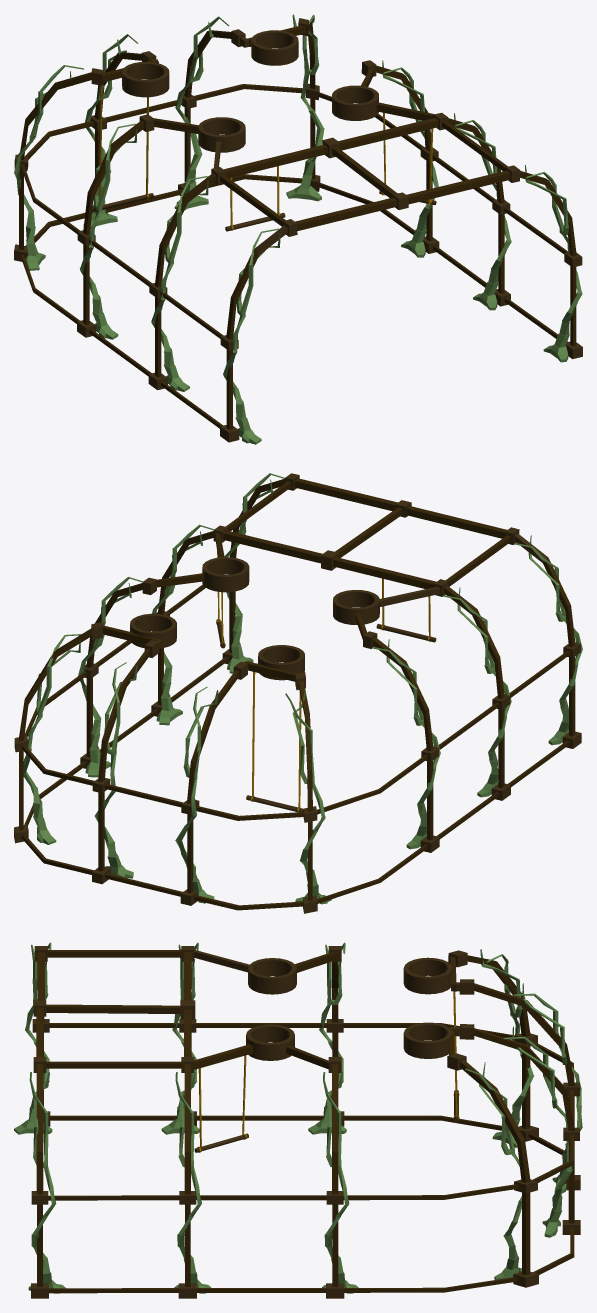
File: vogelkooi (1).fbx
The picture shows the model from 3 angles, top to bottom: view 1: azimuth 30°, elevation 25°; view 2: azimuth 150°, elevation 25°; view 3: azimuth 270°, elevation 25°; orthographic projection. The views are drawn at different scales.
Visible parts, largest first — view 1: vogelkooi, vogel_tak_1; view 2: vogelkooi, vogel_tak_1; view 3: vogelkooi, vogel_tak_2.
Part boxes in pixels (<box>): vogelkooi: <box>14,14,582,444</box>; vogel_tak_1: <box>93,79,153,211</box>; vogelkooi: <box>14,473,582,913</box>; vogel_tak_1: <box>246,671,303,812</box>; vogelkooi: <box>14,942,582,1298</box>; vogel_tak_2: <box>194,1055,248,1152</box>.
Bounding box in the file's own units: 8.94 × 4.88 × 12.07.
